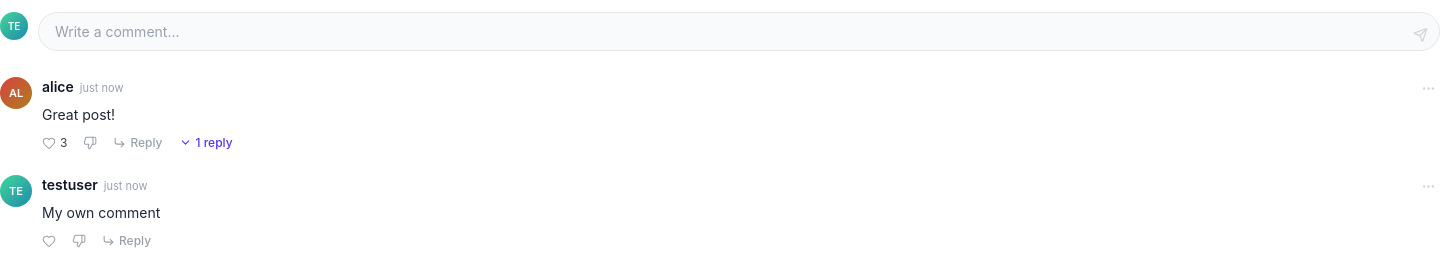
CommentSection › shows Report in menu for other's comment
Expected: the text "Great post!" is shown, left=42, top=106, right=115, bottom=123
Click the button named "More options" in the row of "alice" at (1428, 88), box left=1417, top=77, right=1440, bottom=100
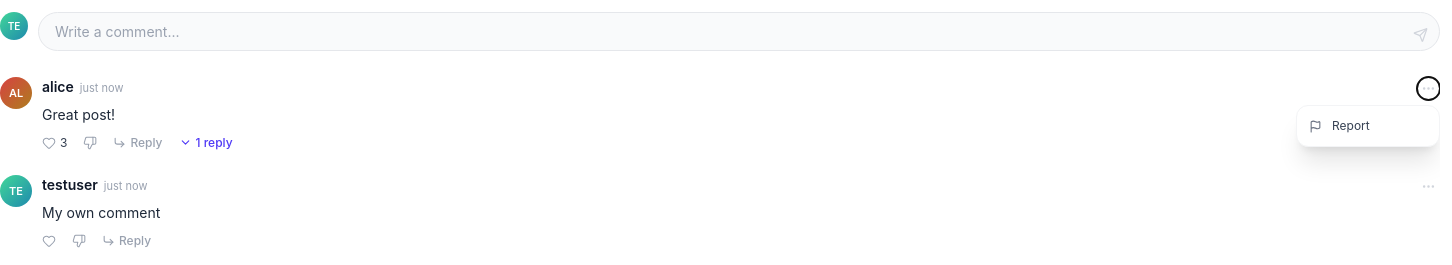
Expected: the button "Report" is shown, left=1297, top=110, right=1439, bottom=142
